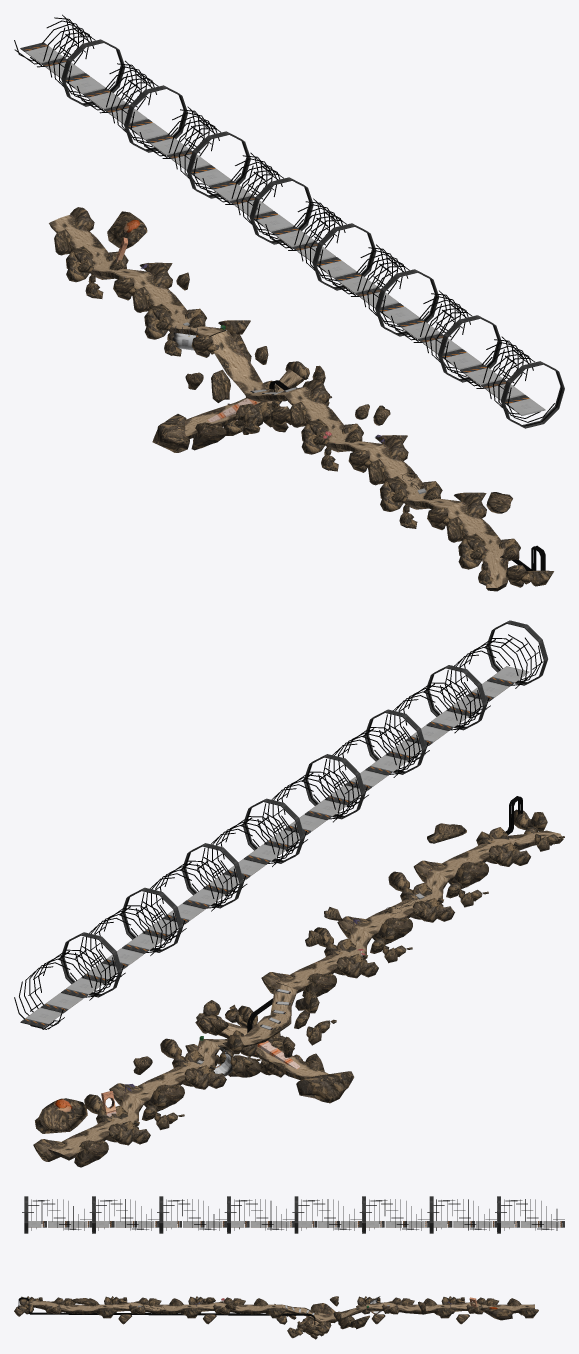
Rendered from Colony_Tower_Bridge_Art.glb.
The picture shows the model from 3 angles, top to bottom: view 1: azimuth 30°, elevation 25°; view 2: azimuth 150°, elevation 25°; view 3: azimuth 270°, elevation 25°; orthographic projection. The views are drawn at different scales.
Visible parts, largest first — view 1: Colony_Tower_Bridge_Art; view 2: Colony_Tower_Bridge_Art; view 3: Colony_Tower_Bridge_Art.
Boxes of the visible parts, x1,y1,x2,y2 form: Colony_Tower_Bridge_Art: (14,14,564,591); Colony_Tower_Bridge_Art: (14,620,564,1167); Colony_Tower_Bridge_Art: (14,1196,564,1339).
Bounding box in the file's own units: 18.96 × 30.18 × 104.
6 materials, 6 textured.
